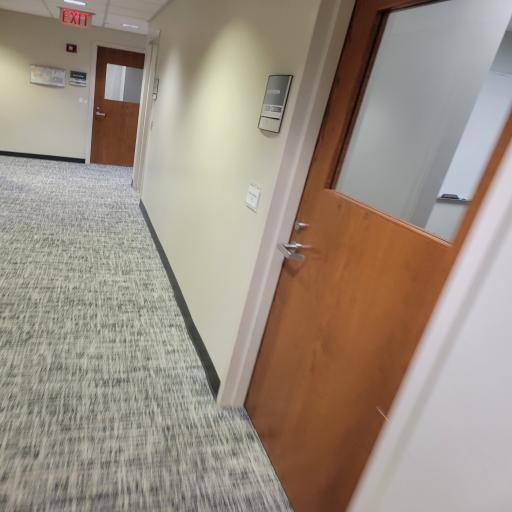door: (236, 0, 512, 498), (92, 38, 142, 177)
exit sign: (52, 3, 98, 34)
floor layout map: (28, 60, 65, 90)
